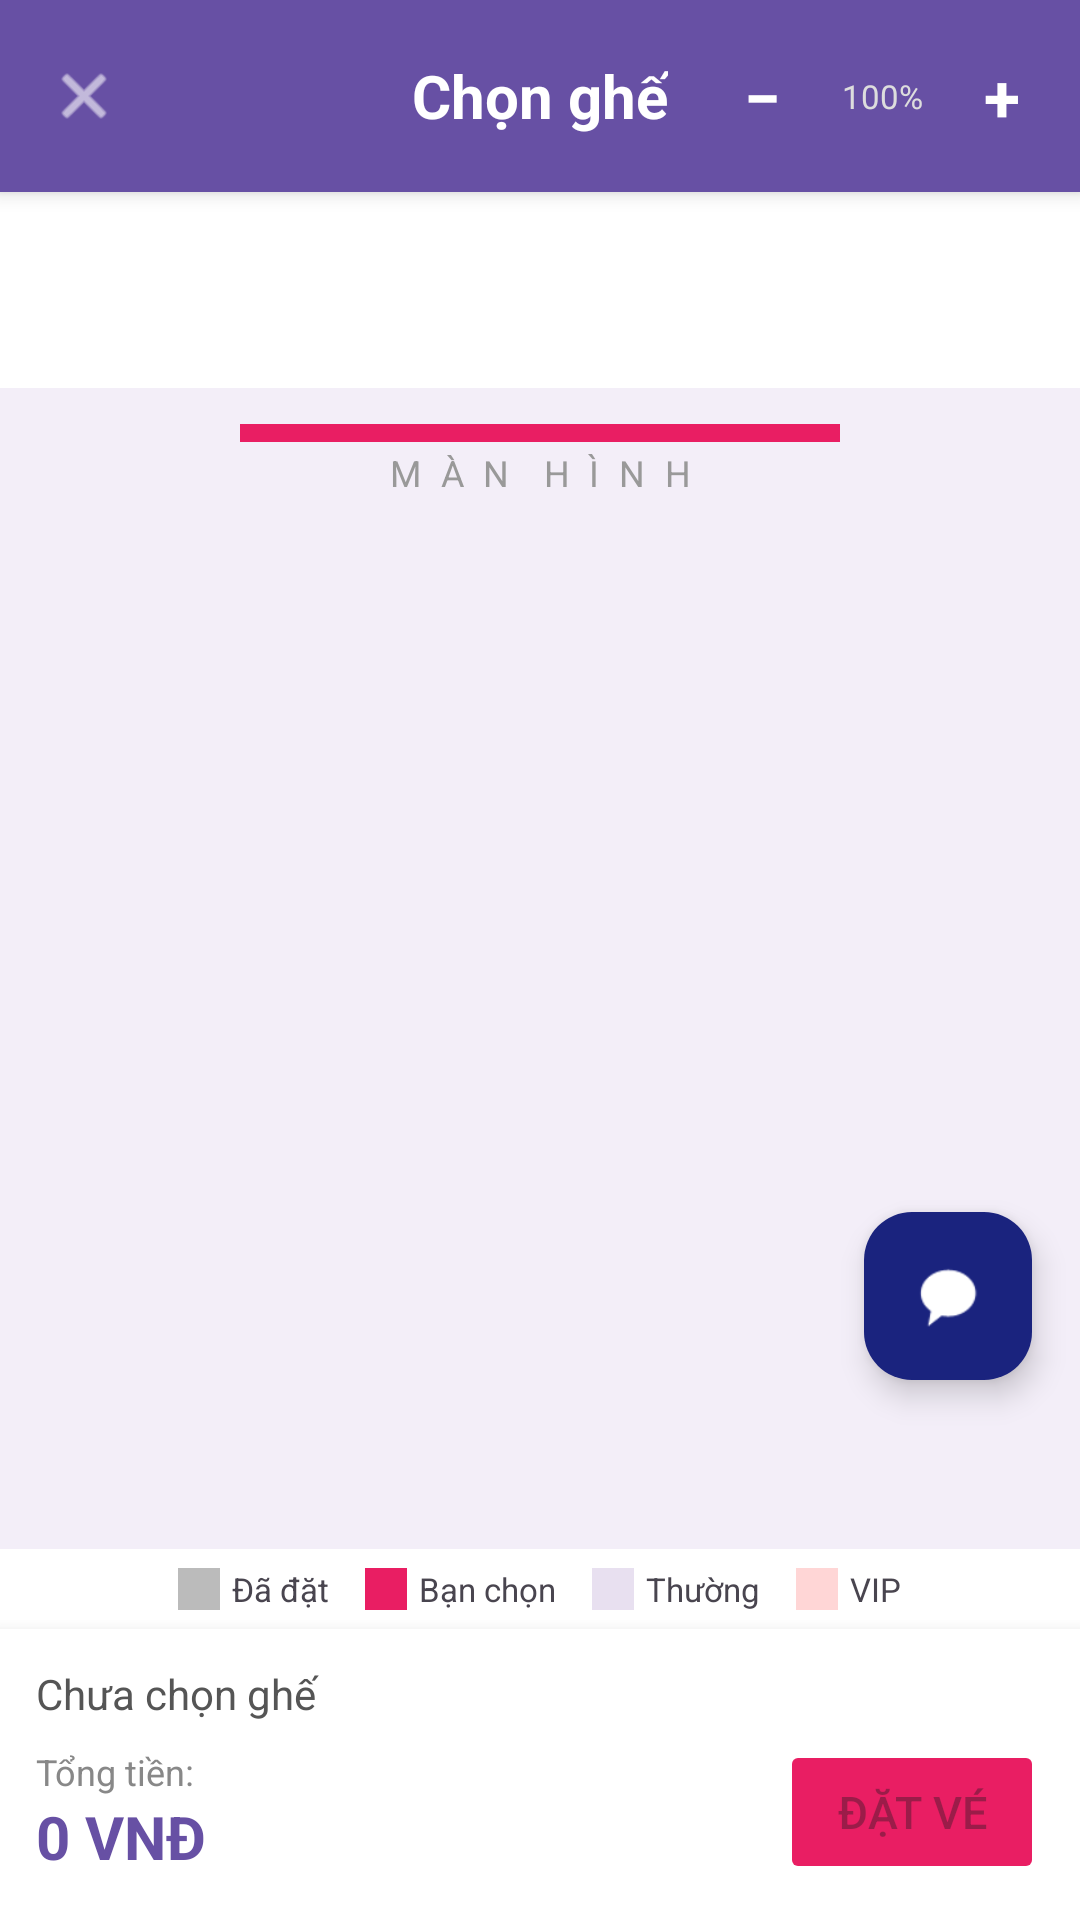

Named icons in this screenshot (1080px x 1920px) and their bounding boxes, (left=x1, top=y1, right=x2, bottom=y2):
Chat với trợ lý: (left=864, top=1212, right=1032, bottom=1380)
close clear cancel: (left=62, top=74, right=106, bottom=118)
